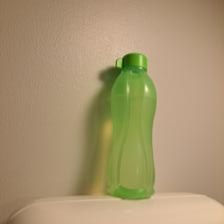bottle: (100, 51, 161, 205)
